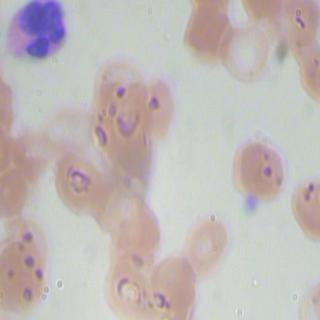Platelets: (239, 192, 259, 216)
RBC: (226, 132, 293, 204), (0, 238, 53, 314), (178, 212, 232, 280), (147, 252, 201, 320), (98, 252, 152, 320), (54, 148, 108, 214), (220, 16, 274, 82), (181, 0, 235, 66), (113, 194, 165, 254), (287, 178, 320, 244), (145, 74, 177, 140)
WBC: (4, 0, 68, 68)
